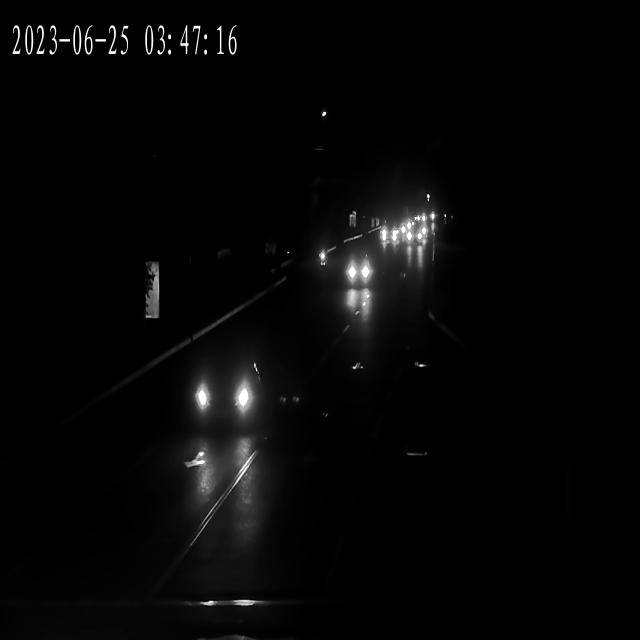Car: (185, 345, 261, 432), (342, 256, 375, 290), (378, 226, 402, 246), (407, 229, 429, 247)
